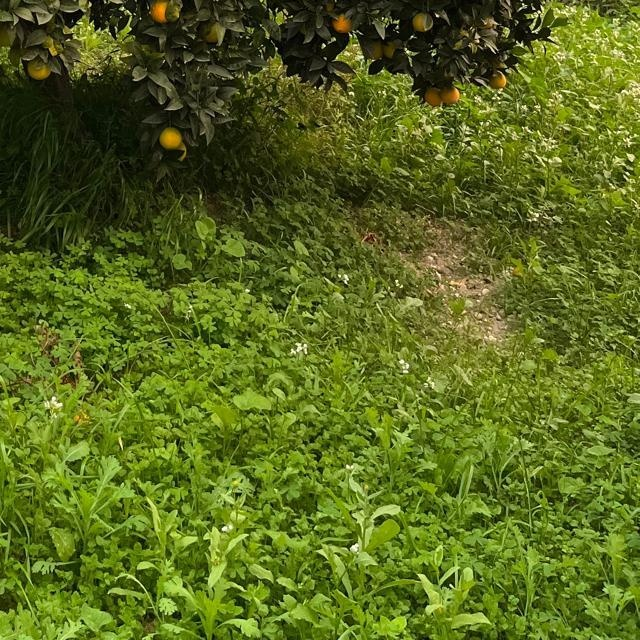orange: (159, 125, 183, 149), (411, 10, 433, 32), (152, 0, 172, 20), (332, 13, 352, 33), (28, 59, 50, 77), (202, 22, 220, 42), (441, 85, 461, 103), (426, 89, 442, 105), (490, 74, 506, 90), (367, 41, 381, 59), (383, 42, 397, 58), (0, 31, 15, 45)
